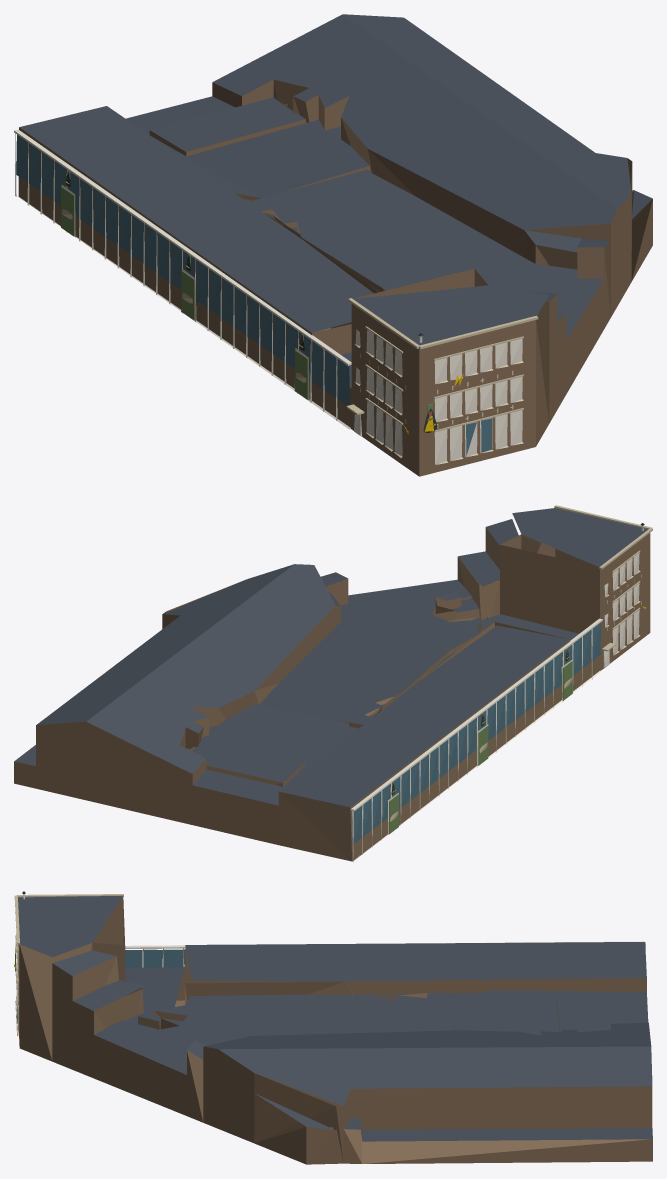
The model's file is kesbeke.lod1.glb.
3 views of the same model, one above another, from view 1: azimuth 30°, elevation 25°; view 2: azimuth 150°, elevation 25°; view 3: azimuth 270°, elevation 25° (orthographic). The views are drawn at different scales.
Visible parts, largest first — view 1: kesbeke; view 2: kesbeke; view 3: kesbeke.
Part boxes in pixels (box(x1,y1,x2,y2)): kesbeke: box(14, 14, 652, 476); kesbeke: box(14, 505, 652, 862); kesbeke: box(14, 891, 652, 1164).
Bounding box in the file's own units: 41.06 × 12.69 × 65.42.
